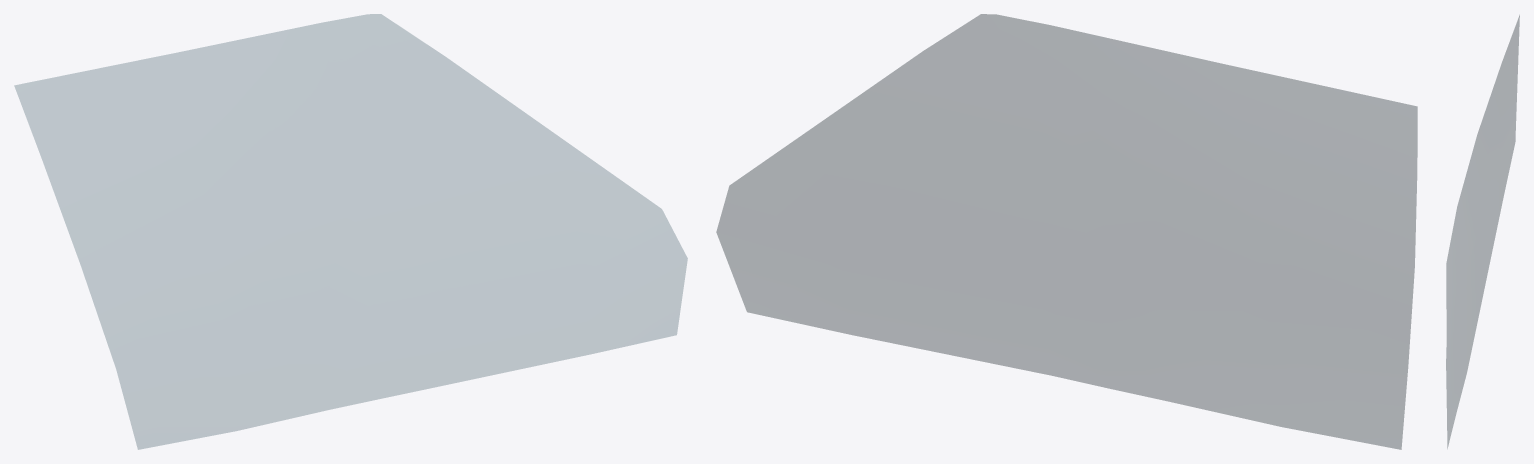
3 views of the same model, side by side, from view 1: azimuth 30°, elevation 25°; view 2: azimuth 150°, elevation 25°; view 3: azimuth 270°, elevation 25° (orthographic). The views are drawn at different scales.
Visible parts, largest first — view 1: SM_NissanPatrol_Door_FR_Glass_Int2; view 2: SM_NissanPatrol_Door_FR_Glass_Int2; view 3: SM_NissanPatrol_Door_FR_Glass_Int2.
Part boxes in pixels (x1,y1,x2,y2): SM_NissanPatrol_Door_FR_Glass_Int2: (14,14,687,449); SM_NissanPatrol_Door_FR_Glass_Int2: (716,14,1417,449); SM_NissanPatrol_Door_FR_Glass_Int2: (1446,15,1519,448).
Bounding box in the file's own units: 0.929 × 0.5076 × 0.1427.
